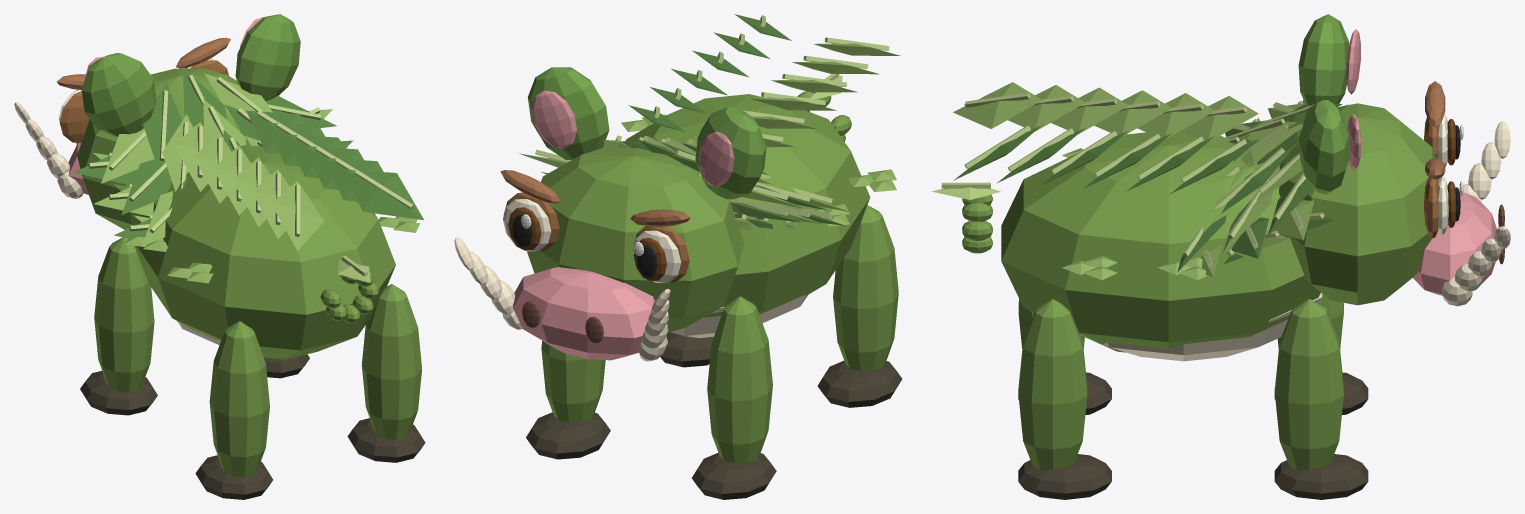
The model's file is GrassBoar_A_S6.obj.
The picture shows the model from 3 angles, left to right: view 1: azimuth 30°, elevation 25°; view 2: azimuth 150°, elevation 25°; view 3: azimuth 270°, elevation 25°; orthographic projection. The views are drawn at different scales.
Visible parts, largest first — view 1: Body, LeftBackLeg, RightBackLeg, LeftFrontLeg, LeftEar, RightEar, Head, BackLeaf_11, RightBackPaw, LeftBackPaw, LeftFrontPaw, BackLeaf_10 (+25 smaller); view 2: Head, Body, Muzzle, LeftFrontLeg, LeftBackLeg, RightEar, RightFrontLeg, LeftEar, RightFrontPaw, LeftFrontPaw, LeftBackPaw, RightEarInner (+18 smaller); view 3: Body, Head, RightFrontLeg, RightBackLeg, Muzzle, RightEar, LeftEar, RightFrontPaw, RightBackPaw, Belly, BackLeaf_10, BackLeaf_2 (+20 smaller).
Boxes of the visible parts, x1=… form: Body: x1=134, y1=144, x2=395, y2=359; LeftBackLeg: x1=209, y1=321, x2=269, y2=477; RightBackLeg: x1=361, y1=284, x2=421, y2=440; LeftFrontLeg: x1=94, y1=237, x2=154, y2=392; LeftEar: x1=81, y1=53, x2=156, y2=137; RightEar: x1=235, y1=14, x2=300, y2=101; Head: x1=77, y1=68, x2=247, y2=229; BackLeaf_11: x1=343, y1=169, x2=423, y2=219; RightBackPaw: x1=347, y1=418, x2=425, y2=462; LeftBackPaw: x1=195, y1=455, x2=273, y2=499; LeftFrontPaw: x1=80, y1=371, x2=157, y2=415; BackLeaf_10: x1=271, y1=181, x2=323, y2=250; Head: x1=527, y1=147, x2=744, y2=332; Body: x1=625, y1=94, x2=870, y2=317; Muzzle: x1=513, y1=267, x2=654, y2=360; LeftFrontLeg: x1=707, y1=296, x2=772, y2=463; LeftBackLeg: x1=833, y1=205, x2=898, y2=371; RightEar: x1=527, y1=67, x2=609, y2=159; RightFrontLeg: x1=541, y1=340, x2=605, y2=422; LeftEar: x1=695, y1=107, x2=766, y2=199; RightFrontPaw: x1=526, y1=412, x2=610, y2=459; LeftFrontPaw: x1=692, y1=452, x2=776, y2=499; LeftBackPaw: x1=817, y1=360, x2=902, y2=407; RightEarInner: x1=531, y1=90, x2=576, y2=148; Body: x1=1001, y1=131, x2=1320, y2=352; Head: x1=1279, y1=103, x2=1438, y2=305; RightFrontLeg: x1=1275, y1=299, x2=1343, y2=470; RightBackLeg: x1=1018, y1=299, x2=1087, y2=470; Muzzle: x1=1412, y1=192, x2=1496, y2=295; RightEar: x1=1298, y1=100, x2=1350, y2=194; LeftEar: x1=1298, y1=14, x2=1348, y2=105; RightFrontPaw: x1=1274, y1=454, x2=1368, y2=499; RightBackPaw: x1=1018, y1=454, x2=1111, y2=499; Belly: x1=1103, y1=292, x2=1322, y2=361; BackLeaf_10: x1=953, y1=82, x2=1042, y2=128; BackLeaf_2: x1=1137, y1=93, x2=1214, y2=139.
Size of the model in its own units: 7.89 by 10.19 by 13.68.
